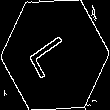L_NE: (29, 28, 81, 82)
